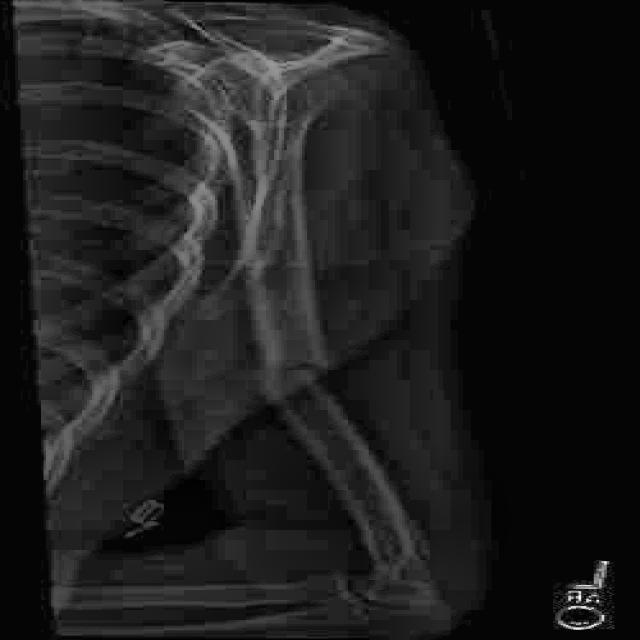humerus: (228, 305, 405, 464)
